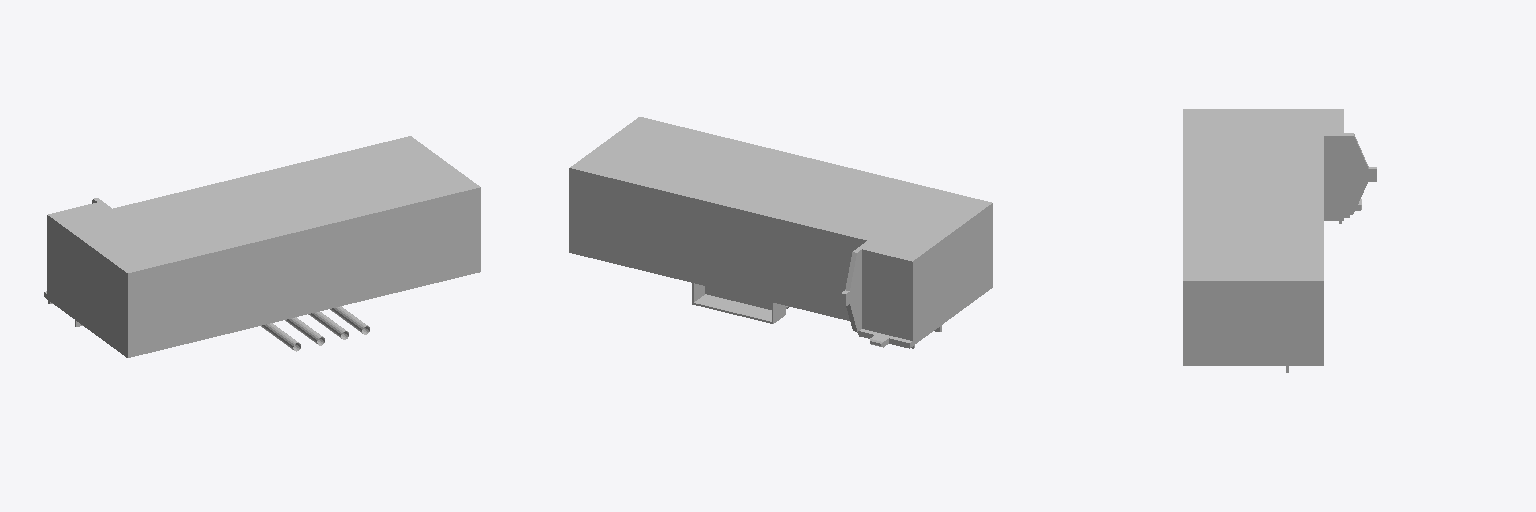
Rendered from Willa Włodzimierza Kluczyckiego.obj.
The picture shows the model from 3 angles: view 1: azimuth 30°, elevation 25°; view 2: azimuth 150°, elevation 25°; view 3: azimuth 270°, elevation 25°; orthographic projection.
Parts seen in each view (by area): view 1: Walec.3; view 2: Walec.3; view 3: Walec.3.
Boxes of the visible parts, x1,y1,x2,y2 form: Walec.3: [44, 136, 480, 357]; Walec.3: [569, 117, 992, 348]; Walec.3: [1183, 109, 1376, 372].
Bounding box in the file's own units: 0.0394 × 0.013 × 0.0186.